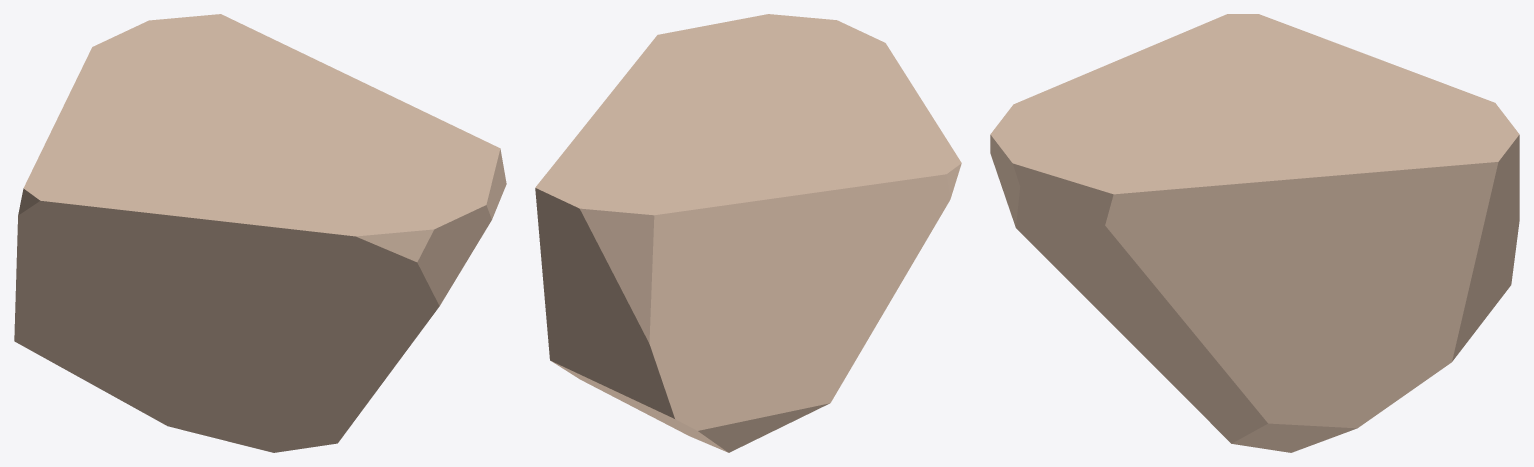
File: rock_04.fbx
The picture shows the model from 3 angles, left to right: view 1: azimuth 30°, elevation 25°; view 2: azimuth 150°, elevation 25°; view 3: azimuth 270°, elevation 25°; orthographic projection. The views are drawn at different scales.
Visible parts, largest first — view 1: rock_04; view 2: rock_04; view 3: rock_04.
Part boxes in pixels (x1,y1,x2,y2): rock_04: (14,14,506,452); rock_04: (535,14,961,452); rock_04: (990,14,1519,452).
Bounding box in the file's own units: 46.34 × 37.47 × 56.54.
Materials: 1 (1 with a texture image).
